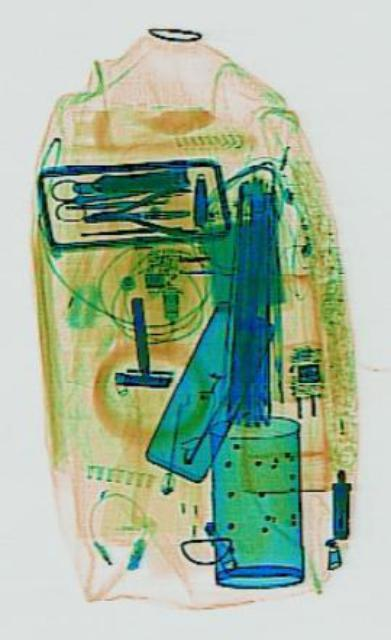Scissors: (49, 174, 167, 220)
